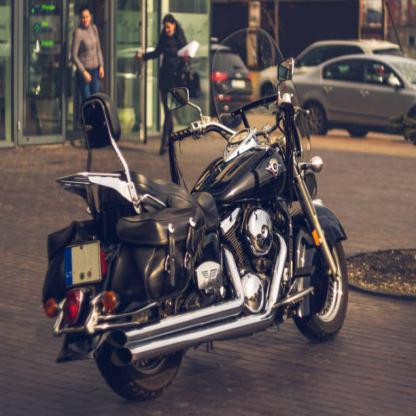Motorcycle: (44, 49, 350, 400)
